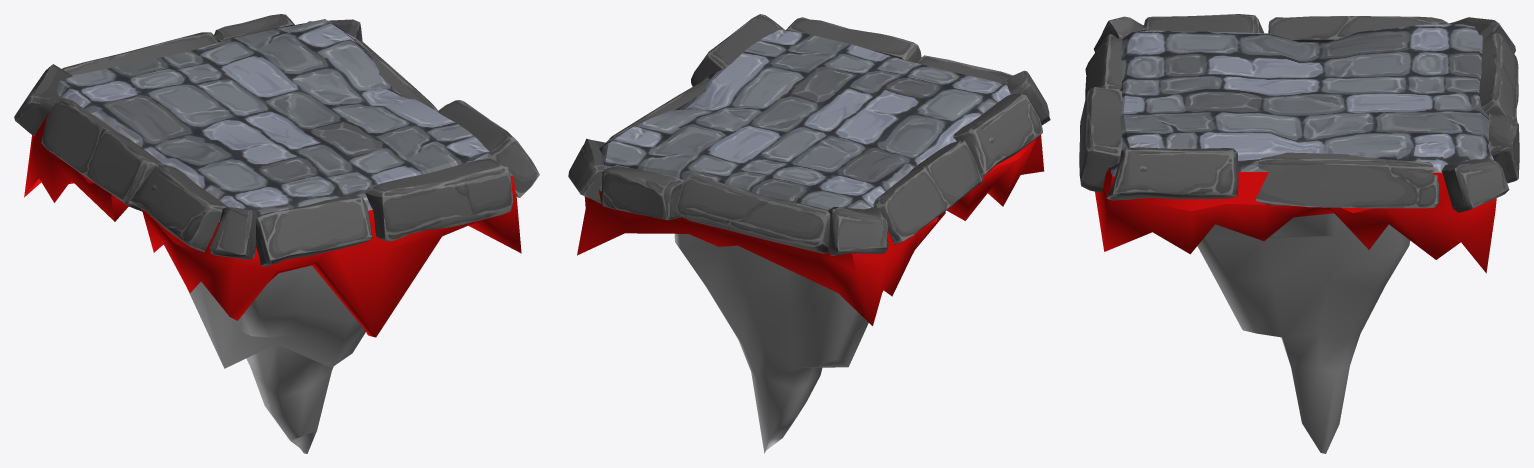
Rendered from Plataforma mobile.fbx.
3 views of the same model, side by side, from view 1: azimuth 30°, elevation 25°; view 2: azimuth 150°, elevation 25°; view 3: azimuth 270°, elevation 25° (orthographic). The views are drawn at different scales.
Parts seen in each view (by area): view 1: Platform_mobilie; view 2: Platform_mobilie; view 3: Platform_mobilie.
Part boxes in pixels (box(x1,y1,x2,y2)): Platform_mobilie: box(14, 14, 539, 453); Platform_mobilie: box(568, 14, 1050, 453); Platform_mobilie: box(1079, 14, 1519, 453).
Bounding box in the file's own units: 929 × 950 × 1064.
